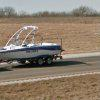Boat: (1, 20, 68, 80)
